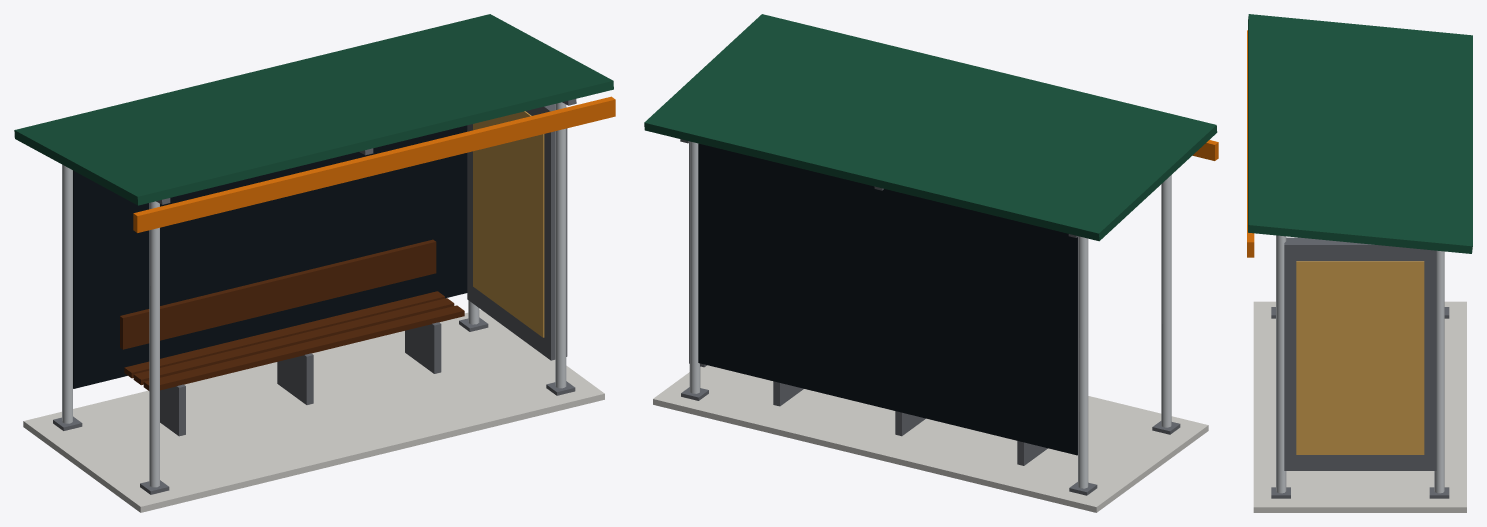
File: SM_BusShelter.fbx
3 renders of one model, left to right at view 1: azimuth 30°, elevation 25°; view 2: azimuth 150°, elevation 25°; view 3: azimuth 270°, elevation 25°, orthographic. The views are drawn at different scales.
Visible parts, largest first — view 1: SM_BusShelter; view 2: SM_BusShelter; view 3: SM_BusShelter.
Boxes of the visible parts, left/top/right/bottom form: SM_BusShelter: left=14, top=14, right=615, bottom=512; SM_BusShelter: left=644, top=14, right=1218, bottom=512; SM_BusShelter: left=1247, top=14, right=1472, bottom=512.
Bounding box in the file's own units: 412 × 263 × 185.
